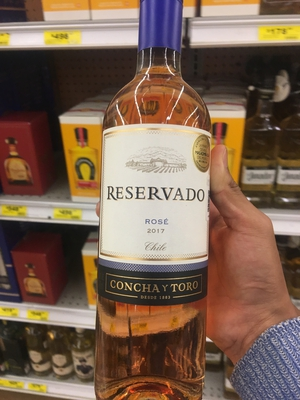reservado rose: (86, 8, 228, 389)
